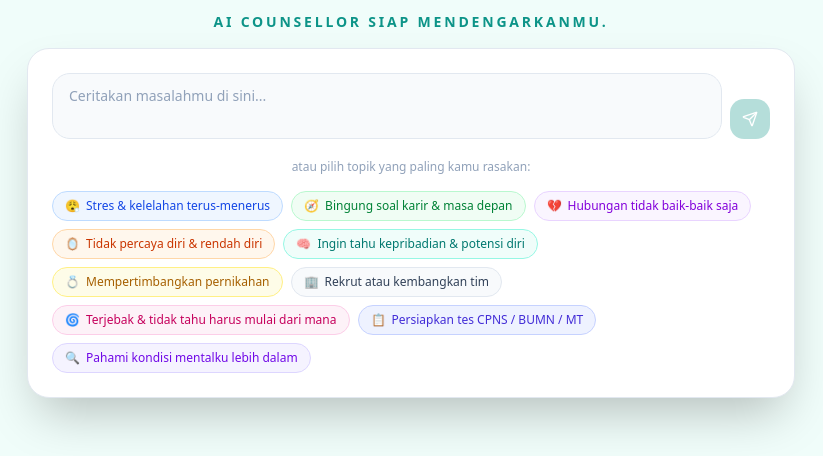
PsikotesDiagnostic › clicking follow-up bubble sends it as message
Click the text "Stres & kelelahan terus-menerus" at (178, 206), box top-left (86, 198), bottom-right (270, 214)
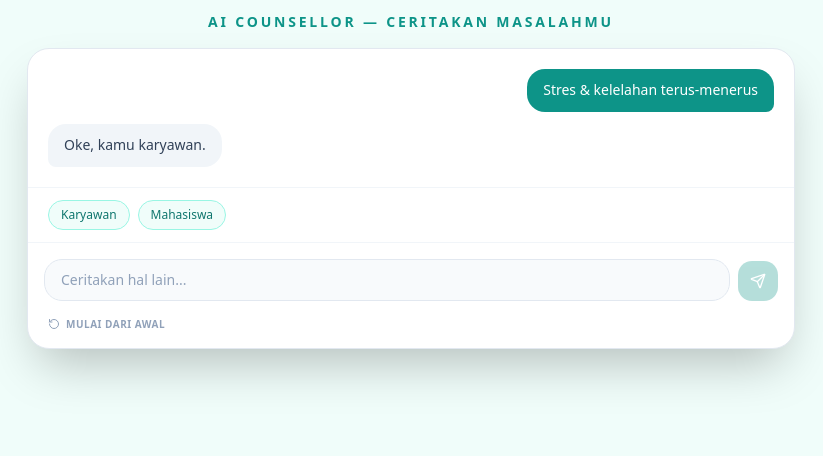
Expected: the button "Karyawan" is shown
Click the button "Karyawan" at (89, 214), box top-left (48, 200), bottom-right (130, 230)
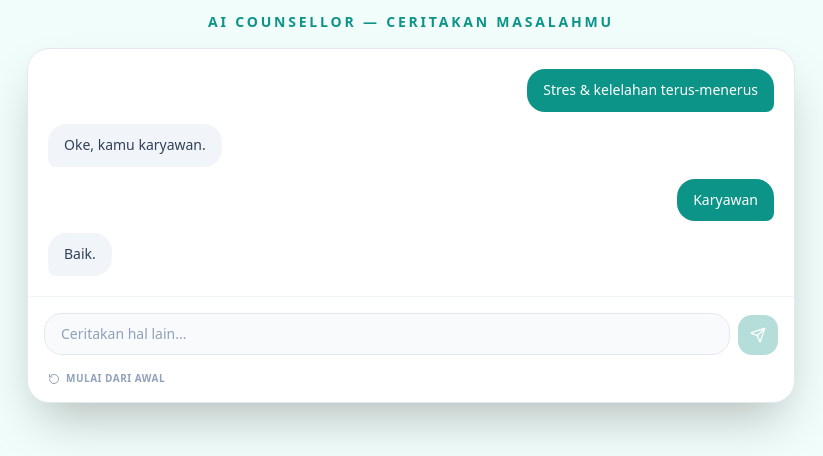
Expected: the text "Baik." is shown, top-left (64, 243), bottom-right (96, 266)
